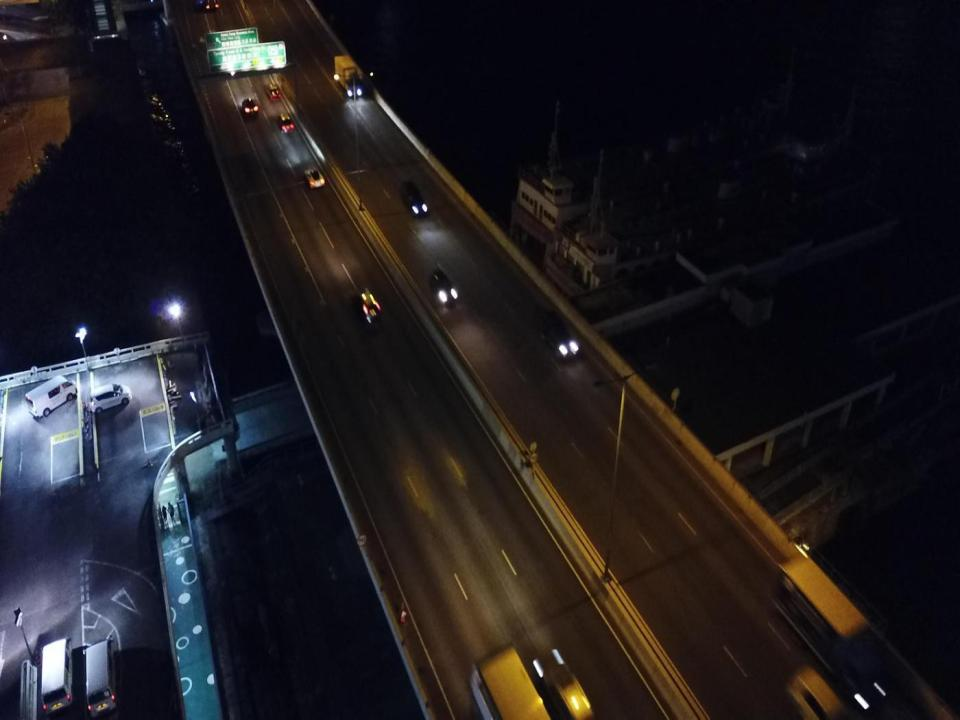car: (531, 649, 593, 697), (429, 270, 458, 303), (357, 288, 380, 329), (306, 168, 324, 189), (241, 97, 258, 116), (268, 86, 281, 99)
truck: (772, 558, 889, 694), (334, 56, 362, 97)
van: (41, 637, 75, 714), (86, 640, 118, 718), (26, 374, 78, 418), (540, 310, 578, 358), (89, 383, 132, 413), (400, 180, 426, 217), (280, 112, 294, 132)
